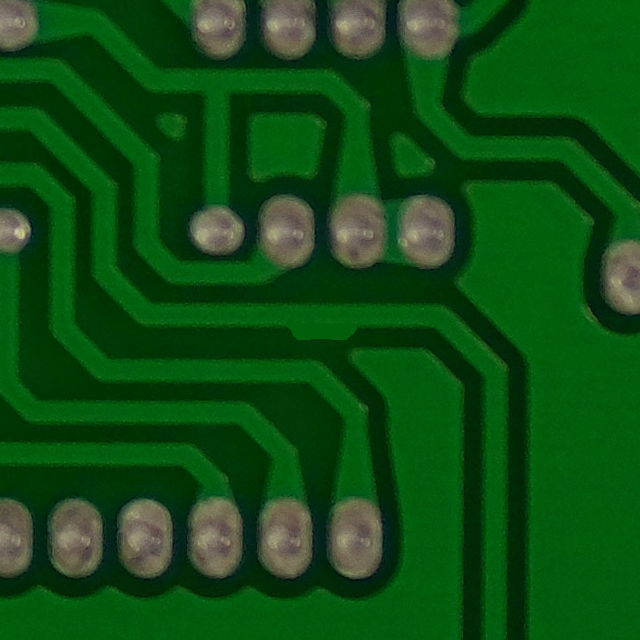spur: (271, 284, 369, 356)
